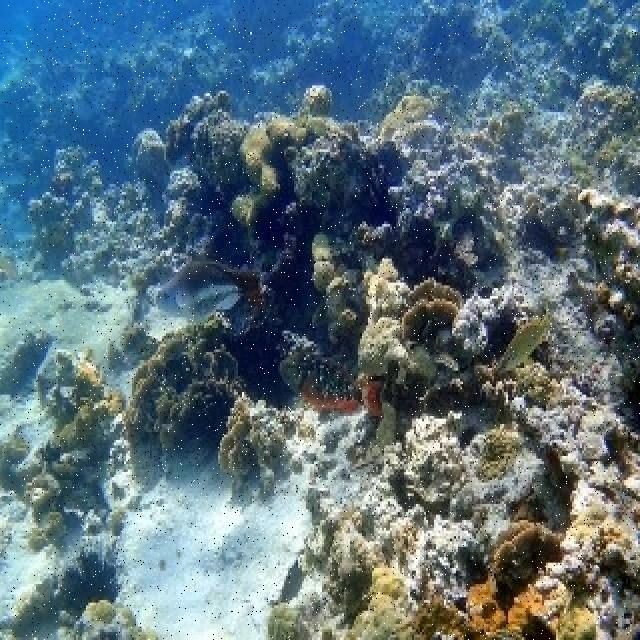fish: (155, 260, 273, 322), (501, 300, 558, 371), (300, 375, 387, 418)
reefs: (412, 495, 563, 637), (230, 113, 358, 224), (358, 259, 416, 372)
